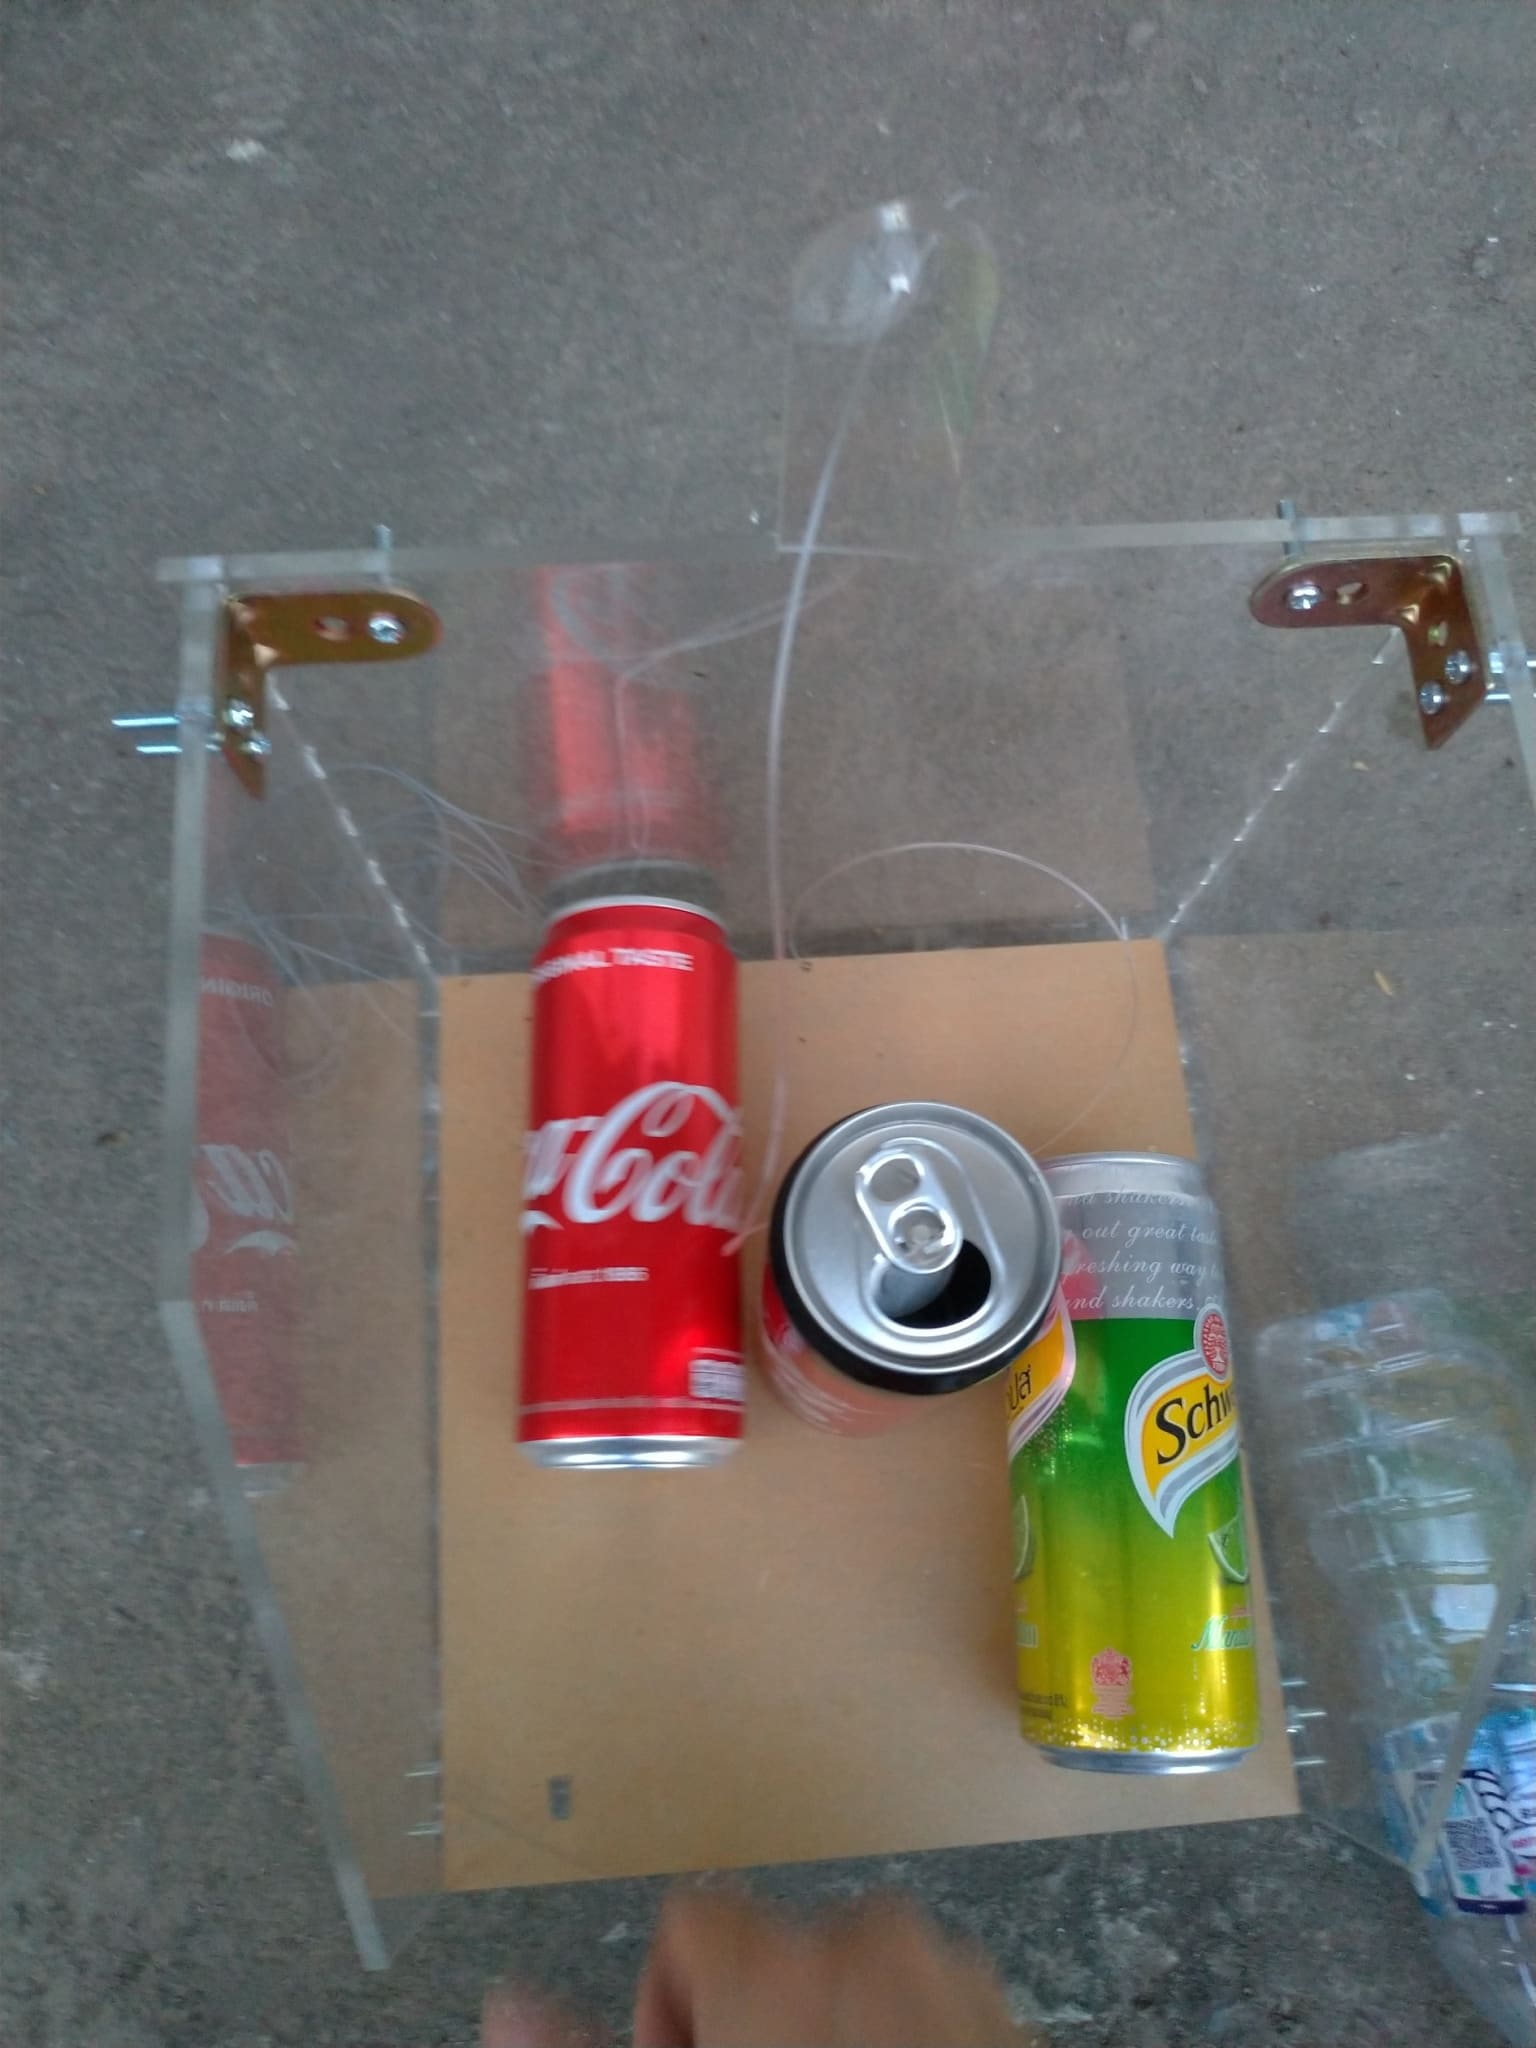AlCan: (503, 889, 760, 1484), (1016, 1155, 1257, 1771), (763, 1095, 1066, 1442)
PlasticBottle: (1267, 1285, 1534, 2042)
